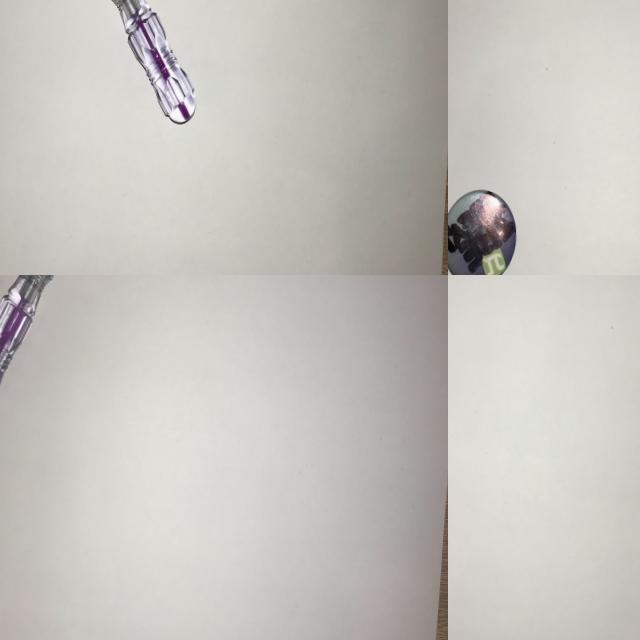icon: (448, 177, 525, 275)
screwdriver: (69, 0, 213, 131), (0, 275, 82, 422)
